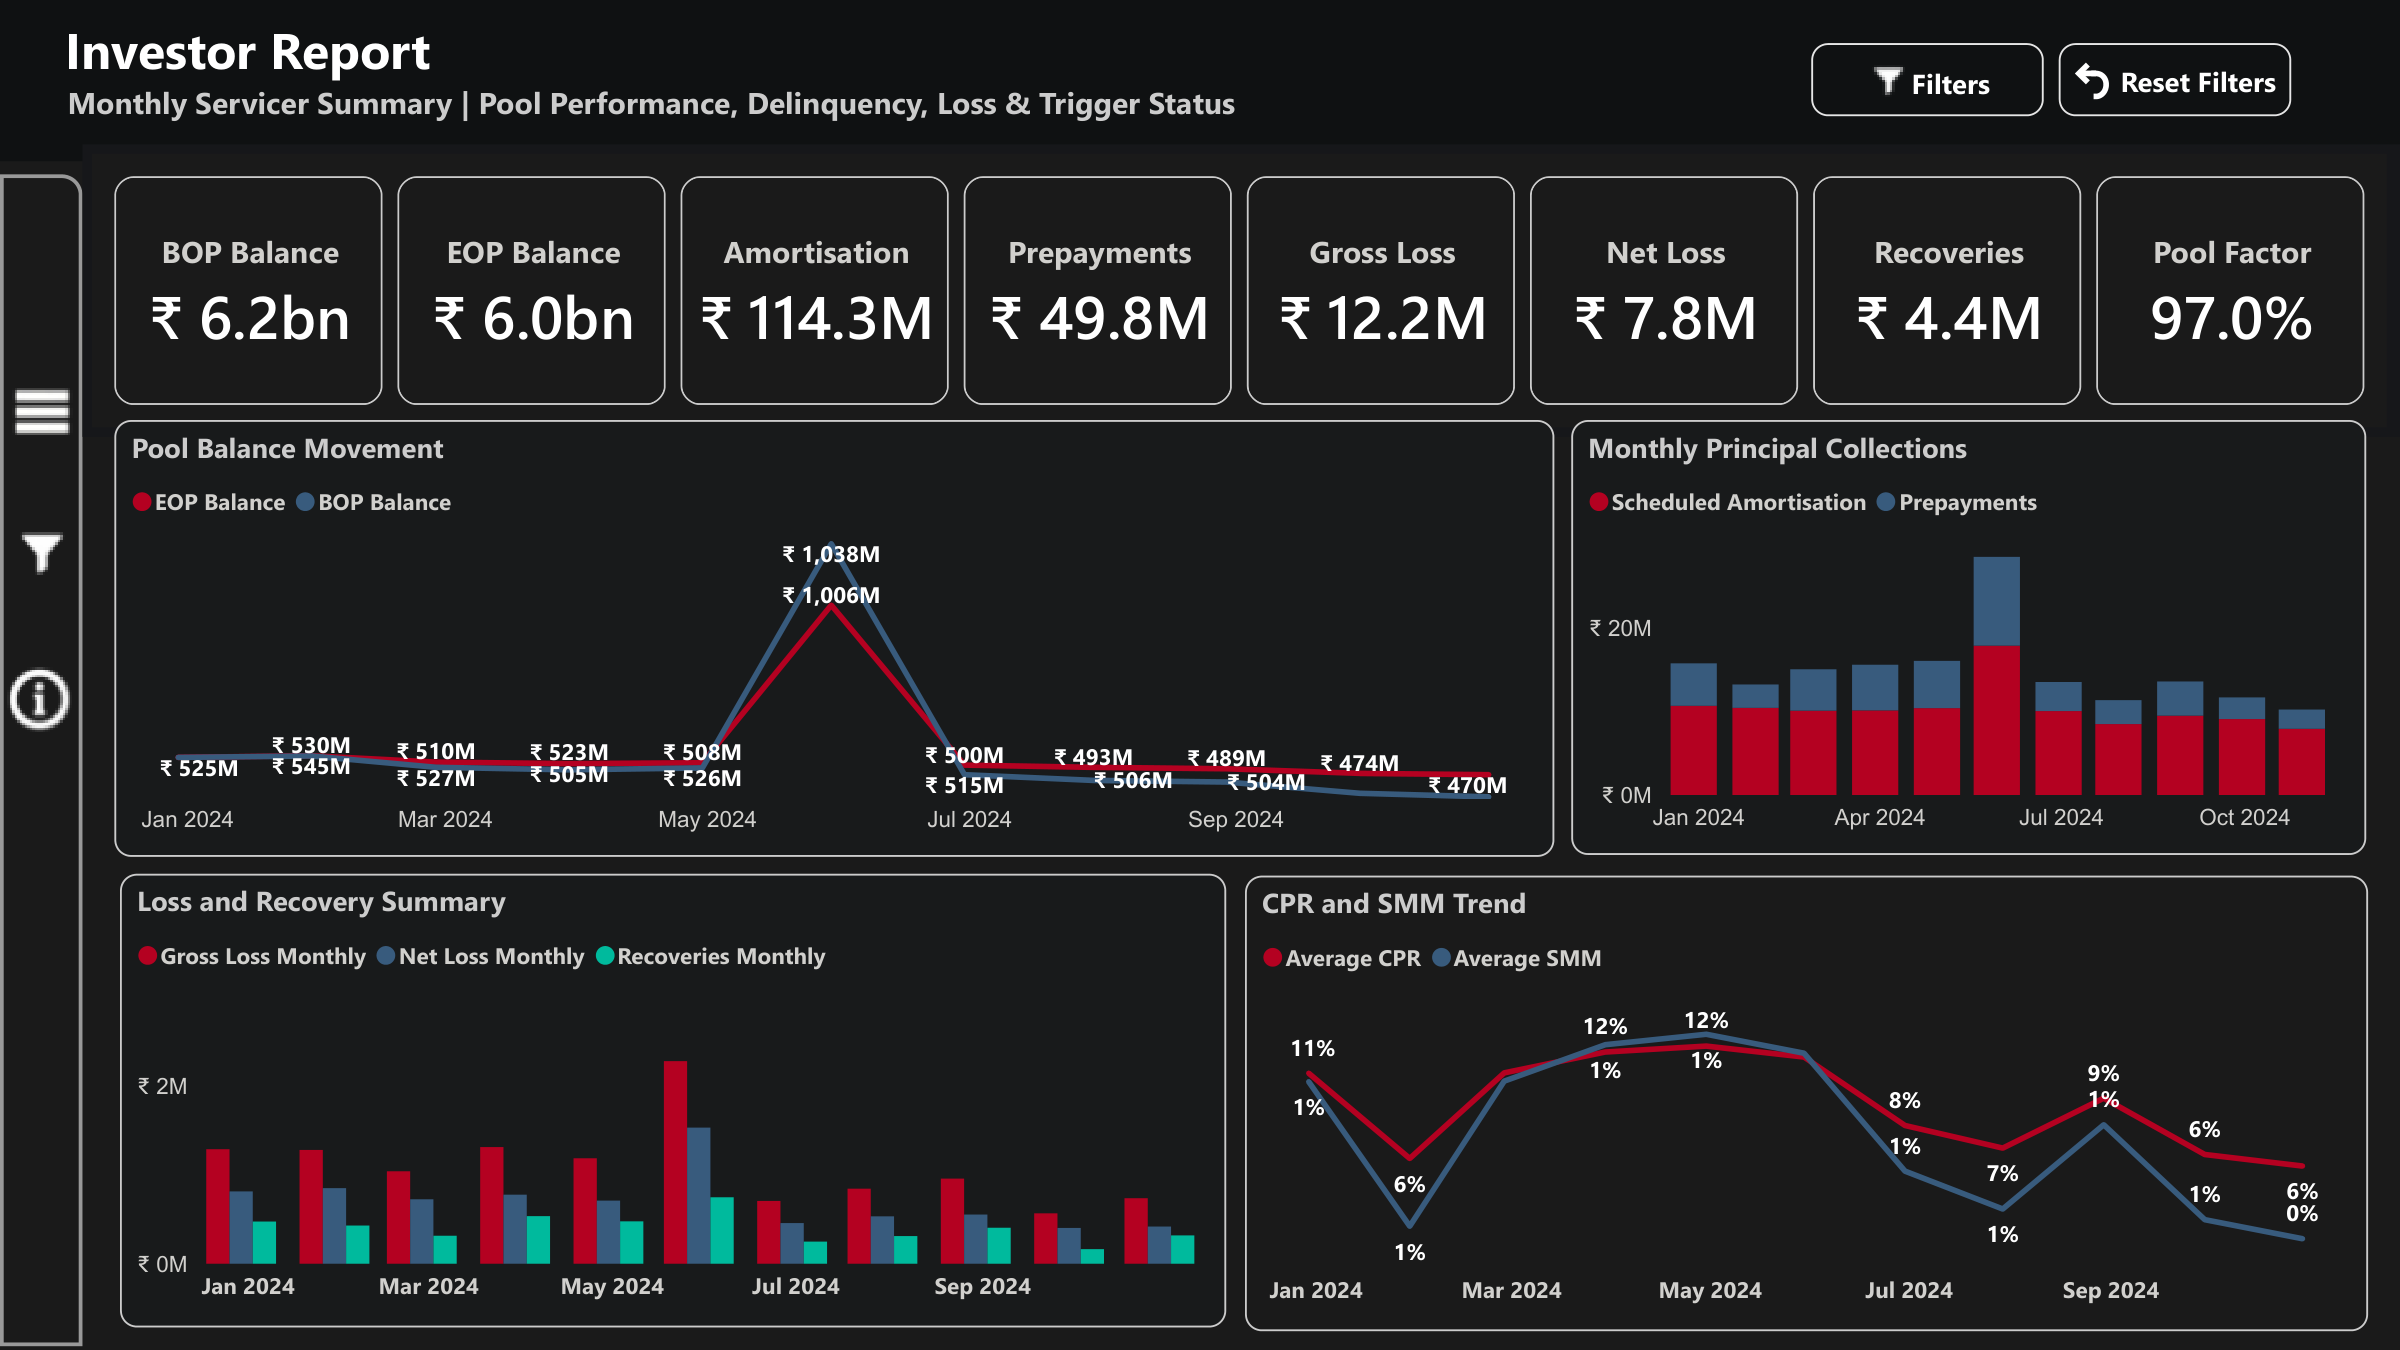

The page's visual inventory and layout, read from the dashboard file:
{"tool":"powerbi","page":{"name":"Investor Report","canvas":[1280,720],"ordinal":7},"visuals":[{"type":"group","id":"g1","title":"default page ","box":[0,0,1280,86.5],"z":0},{"type":"textbox","title":"Executive Overview","box":[0,0,1280,86.5],"z":0,"group":"g1"},{"type":"cardVisual","fields":{"Data":["Monthly_Loss.BOP Balance","Monthly_Loss.EOP Balance","Monthly_Loss.Scheduled Amortisation","Monthly_Loss.Prepayments","Monthly_Loss.Gross Loss Monthly","Monthly_Loss.Net Loss Monthly","Monthly_Loss.Recoveries Monthly","Monthly_Loss.Pool Factor Monthly"]},"box":[44.3,76.7,1235.7,155.9],"z":0,"group":"g3"},{"type":"shape","box":[0,93.3,44.5,625],"z":0,"group":"g2"},{"type":"shape","box":[350.8,142.2,576.7,429.8],"z":0,"group":"g4"},{"type":"actionButton","box":[1097.5,23.1,124.4,39],"z":1000,"group":"g1"},{"type":"textbox","box":[350,172.9,577.3,398.9],"z":1000,"group":"g4"},{"type":"actionButton","box":[0,180.5,44.7,77.6],"z":1000,"group":"g2"},{"type":"columnChart","title":"Monthly Principal Collections","fields":{"Category":["Monthly_Loss.ReportingDate"],"Y":["Monthly_Loss.Scheduled Amortisation","Monthly_Loss.Prepayments"]},"box":[838,224.1,424.4,231.6],"z":1000,"group":"g3"},{"type":"actionButton","box":[965.9,23.1,124.4,39],"z":2000,"group":"g1"},{"type":"shape","box":[350,120,579.1,52.1],"z":2000,"group":"g4"},{"type":"lineChart","title":"Pool Balance Movement","fields":{"Category":["Monthly_Loss.ReportingDate"],"Y2":["Monthly_Loss.BOP Balance"],"Y":["Monthly_Loss.EOP Balance"]},"box":[61.5,223.7,767.6,232.9],"z":2000,"group":"g3"},{"type":"actionButton","box":[0,257.1,45,76.9],"z":2000,"group":"g2"},{"type":"group","id":"g2","title":"navigation bar","box":[0,93.3,45,625],"z":3000},{"type":"actionButton","box":[887.2,120,42.8,53.8],"z":3000,"group":"g4"},{"type":"actionButton","box":[0,334.1,45,78.3],"z":3000,"group":"g2"},{"type":"clusteredColumnChart","title":"Loss and Recovery Summary","fields":{"Category":["Monthly_Loss.ReportingDate"],"Y":["Monthly_Loss.Gross Loss Monthly","Monthly_Loss.Net Loss Monthly","Monthly_Loss.Recoveries Monthly"]},"box":[64.3,465.2,590.3,242.9],"z":3000,"group":"g3"},{"type":"textbox","box":[398.6,120,406.2,49.7],"z":4000,"group":"g4"},{"type":"lineChart","title":"CPR and SMM Trend","fields":{"Category":["Monthly_Loss.ReportingDate"],"Y":["Monthly_Loss.Average CPR"],"Y2":["Monthly_Loss.Average SMM"]},"box":[664.7,466.6,598.9,242.9],"z":4000,"group":"g3"},{"type":"group","id":"g3","title":"charts unfolded 1","box":[44.3,76.7,1235.7,632.9],"z":5000},{"type":"actionButton","box":[377.2,125.9,27.2,32],"z":5000,"group":"g4"},{"type":"group","id":"g4","title":"info","box":[350,120,580,452],"z":7000}]}

Visuals, with their boxes in screenshot pixels (x1, y1, x2, y2), scaled from the page's 1280x720 canvas onto the 2400x1350 screenshot:
"default page " group: x1=0, y1=0, x2=2399, y2=162
"Executive Overview" textbox: x1=0, y1=0, x2=2399, y2=162
cardVisual - Monthly_Loss.BOP Balance x Monthly_Loss.EOP Balance: x1=83, y1=144, x2=2399, y2=436
shape: x1=0, y1=175, x2=83, y2=1347
shape: x1=658, y1=267, x2=1739, y2=1072
actionButton: x1=2058, y1=43, x2=2291, y2=116
textbox: x1=656, y1=324, x2=1739, y2=1072
actionButton: x1=0, y1=338, x2=84, y2=484
"Monthly Principal Collections" columnChart: x1=1571, y1=420, x2=2367, y2=854
actionButton: x1=1811, y1=43, x2=2044, y2=116
shape: x1=656, y1=225, x2=1742, y2=323
"Pool Balance Movement" lineChart: x1=115, y1=419, x2=1555, y2=856
actionButton: x1=0, y1=482, x2=84, y2=626
"navigation bar" group: x1=0, y1=175, x2=84, y2=1347
actionButton: x1=1664, y1=225, x2=1744, y2=326
actionButton: x1=0, y1=626, x2=84, y2=773
"Loss and Recovery Summary" clusteredColumnChart: x1=121, y1=872, x2=1227, y2=1328
textbox: x1=747, y1=225, x2=1509, y2=318
"CPR and SMM Trend" lineChart: x1=1246, y1=875, x2=2369, y2=1330
"charts unfolded 1" group: x1=83, y1=144, x2=2399, y2=1330
actionButton: x1=707, y1=236, x2=758, y2=296
"info" group: x1=656, y1=225, x2=1744, y2=1072
